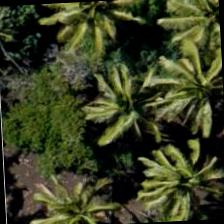Kelapa_Sawit: (112, 74, 207, 169), (135, 129, 223, 224), (27, 157, 121, 223), (50, 0, 143, 51), (172, 0, 223, 69)
